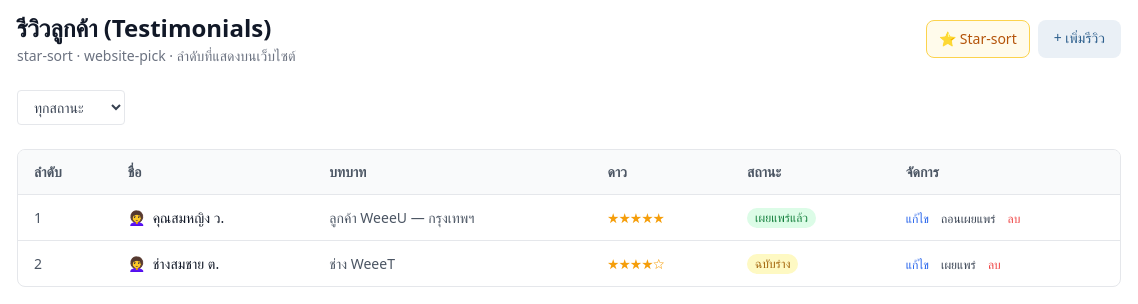
it: TestimonialList › filters by status
expect the text "คุณสมหญิง ว." is shown: met, box [153,208,224,226]
Select "ฉบับร่าง" in the dropdown named "กรองตามสถานะ" at (71, 108), box [17,90,125,125]
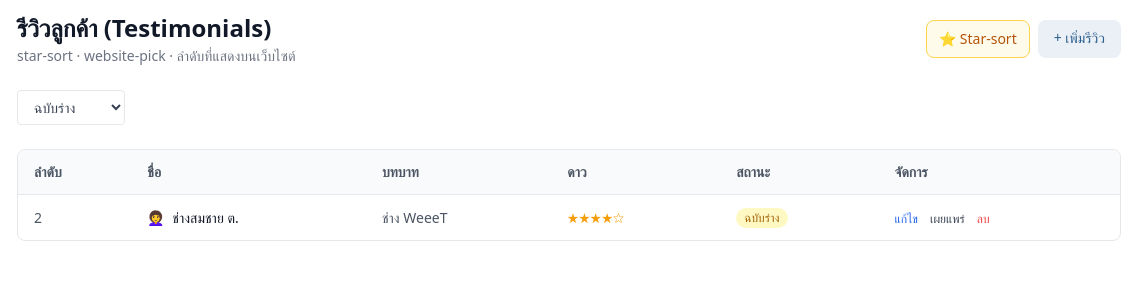
expect the text "ช่างสมชาย ต." is shown: met, box [172,208,239,226]
expect the text "คุณสมหญิง ว." is gone: met
